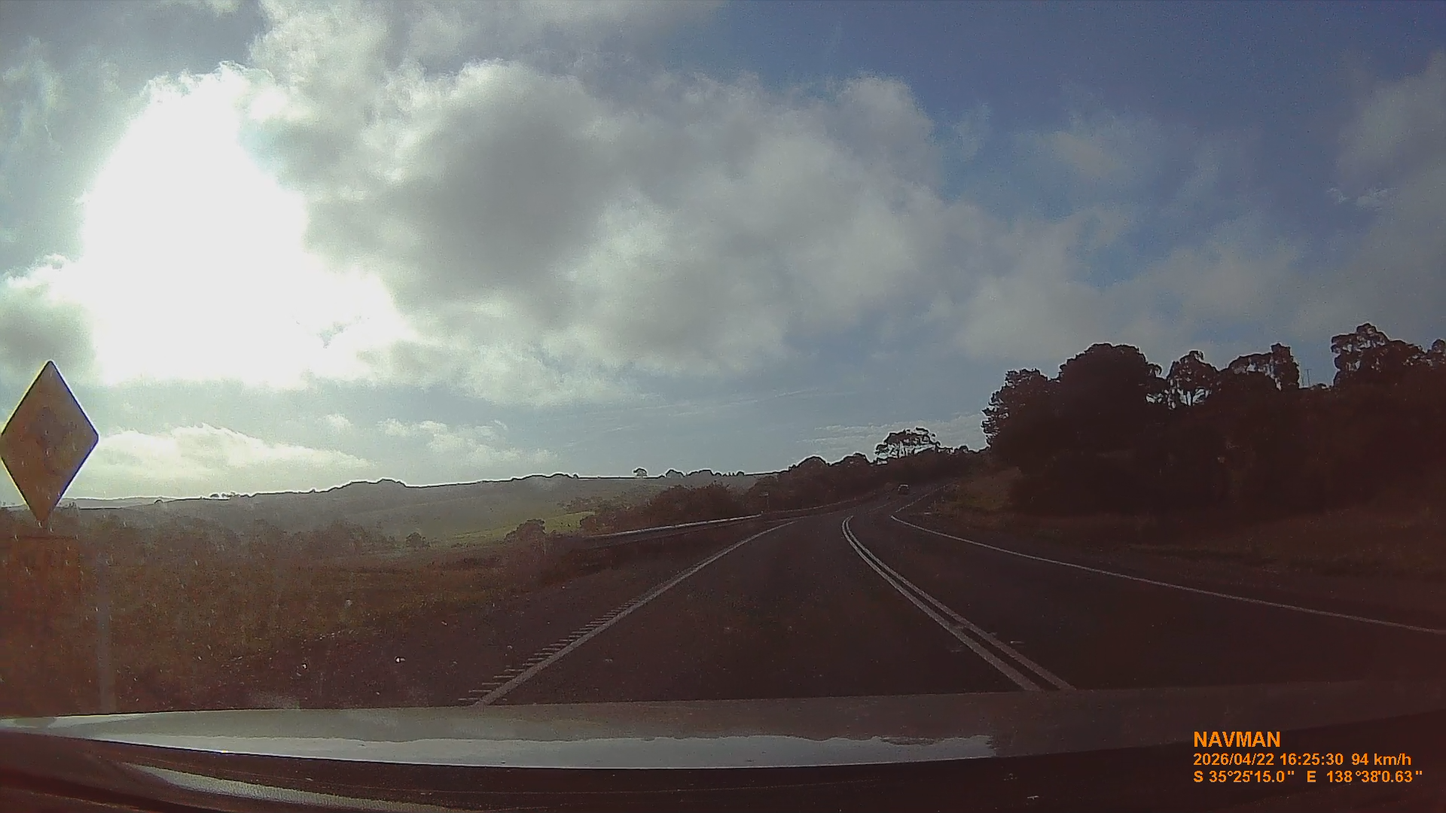road barriers: (584, 514, 759, 541)
